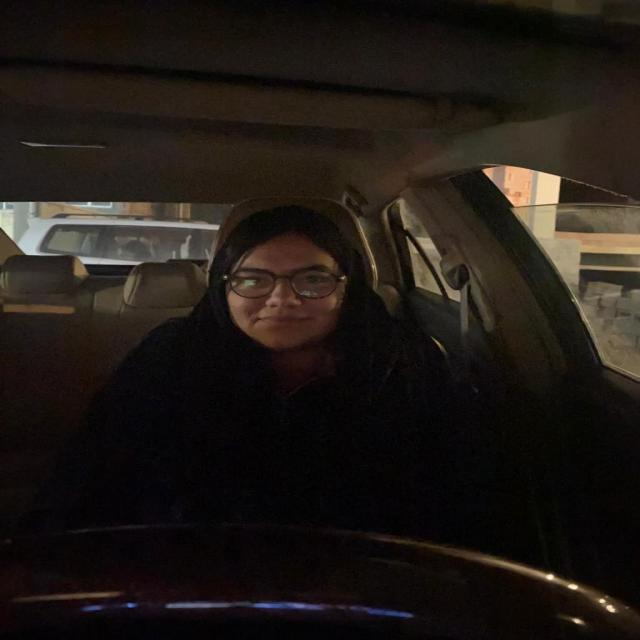person: (210, 201, 362, 354)
